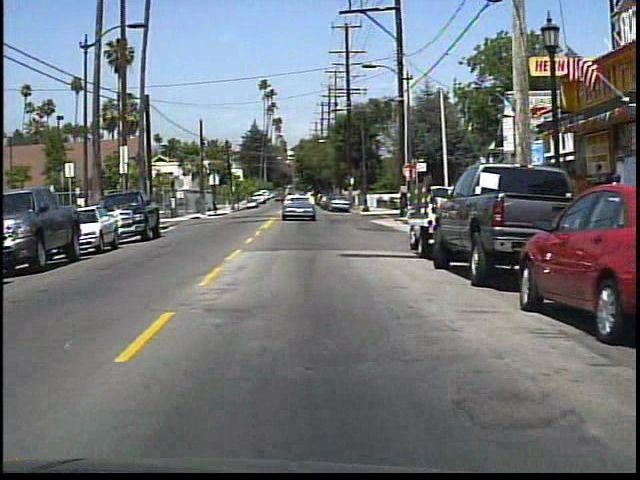person: (600, 170, 628, 243)
